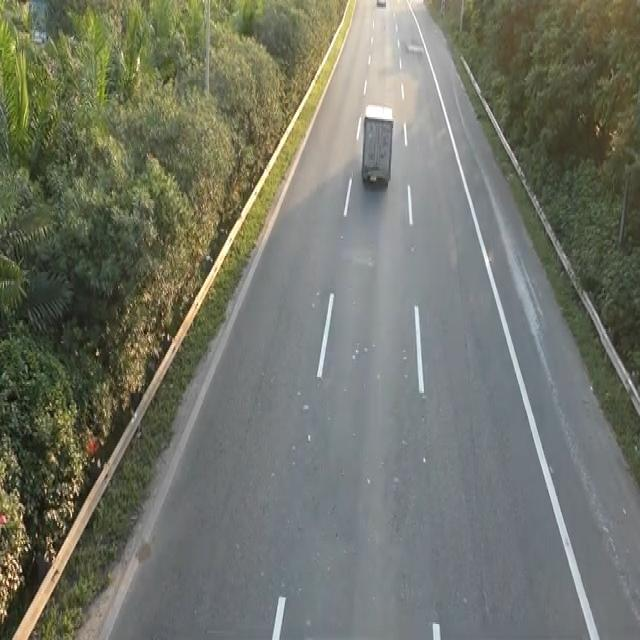minivan: (359, 100, 395, 188)
